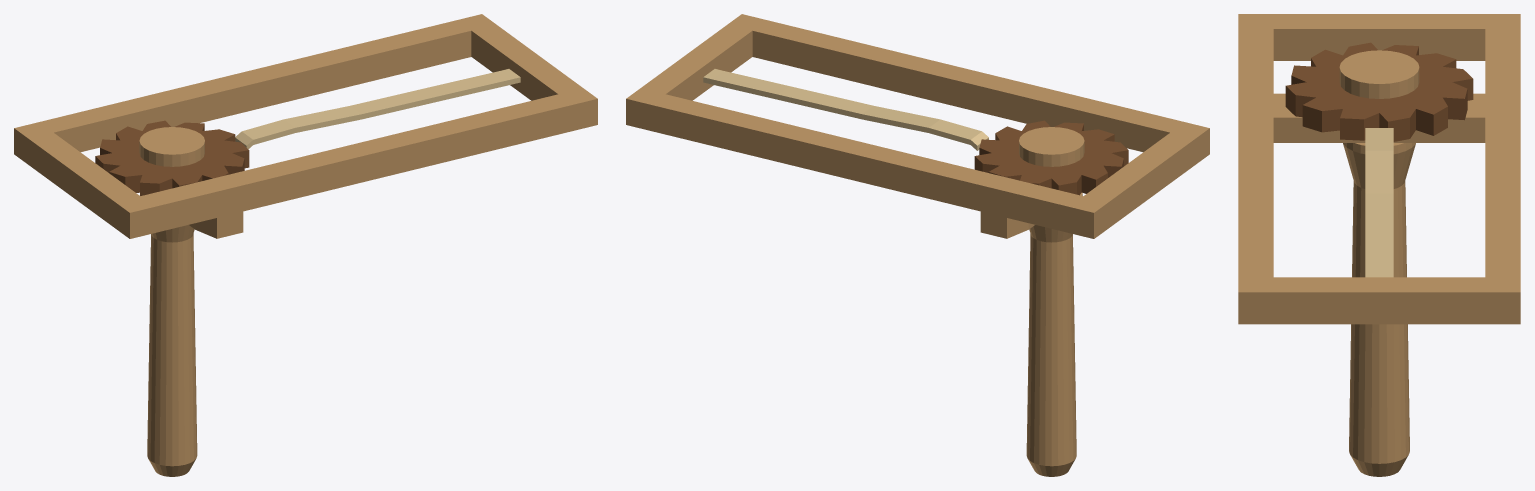
3 renders of one model, left to right at view 1: azimuth 30°, elevation 25°; view 2: azimuth 150°, elevation 25°; view 3: azimuth 270°, elevation 25°, orthographic. The views are drawn at different scales.
Visible parts, largest first — view 1: CompleteOpenRectangularFrame, LongTurnedGripAndAxialRetainer, TwelveToothAnnularWheel, SingleShapedAnchoredReed, BoredTransverseBearingBridge; view 2: CompleteOpenRectangularFrame, LongTurnedGripAndAxialRetainer, TwelveToothAnnularWheel, SingleShapedAnchoredReed, BoredTransverseBearingBridge; view 3: CompleteOpenRectangularFrame, LongTurnedGripAndAxialRetainer, TwelveToothAnnularWheel, SingleShapedAnchoredReed, BoredTransverseBearingBridge.
Boxes of the visible parts, <box> form: CompleteOpenRectangularFrame: <box>14,14,597,238</box>; LongTurnedGripAndAxialRetainer: <box>139,127,204,476</box>; TwelveToothAnnularWheel: <box>95,120,249,195</box>; SingleShapedAnchoredReed: <box>235,69,520,149</box>; BoredTransverseBearingBridge: <box>189,211,243,238</box>; CompleteOpenRectangularFrame: <box>626,14,1209,238</box>; LongTurnedGripAndAxialRetainer: <box>1019,127,1084,476</box>; TwelveToothAnnularWheel: <box>974,120,1128,195</box>; SingleShapedAnchoredReed: <box>703,69,988,150</box>; BoredTransverseBearingBridge: <box>980,211,1034,238</box>; CompleteOpenRectangularFrame: <box>1238,14,1520,324</box>; LongTurnedGripAndAxialRetainer: <box>1339,50,1419,476</box>; TwelveToothAnnularWheel: <box>1285,42,1473,141</box>; SingleShapedAnchoredReed: <box>1365,128,1393,277</box>; BoredTransverseBearingBridge: <box>1273,93,1485,142</box>.
Size of the model in its own units: 0.28 by 0.188 by 0.12.
